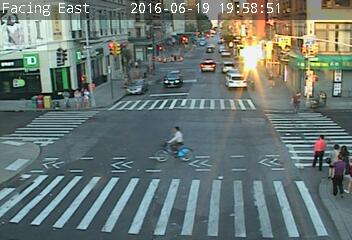neg: (158, 123, 188, 163), (90, 122, 112, 151), (15, 116, 35, 142), (47, 146, 66, 171), (172, 80, 190, 105), (99, 173, 116, 196), (244, 74, 260, 95), (243, 27, 257, 46), (174, 20, 188, 39), (204, 160, 218, 178), (219, 86, 232, 103), (295, 58, 307, 74), (127, 98, 139, 113), (210, 127, 221, 142), (146, 23, 157, 37), (60, 18, 70, 31), (28, 66, 38, 79), (110, 22, 119, 34), (21, 39, 30, 51), (52, 117, 60, 127), (49, 51, 55, 58)
pos: (323, 154, 351, 197), (305, 132, 334, 169), (330, 141, 351, 176), (323, 143, 346, 173), (67, 84, 87, 111), (79, 88, 94, 108), (289, 90, 303, 109), (263, 69, 277, 87), (59, 87, 72, 105)
